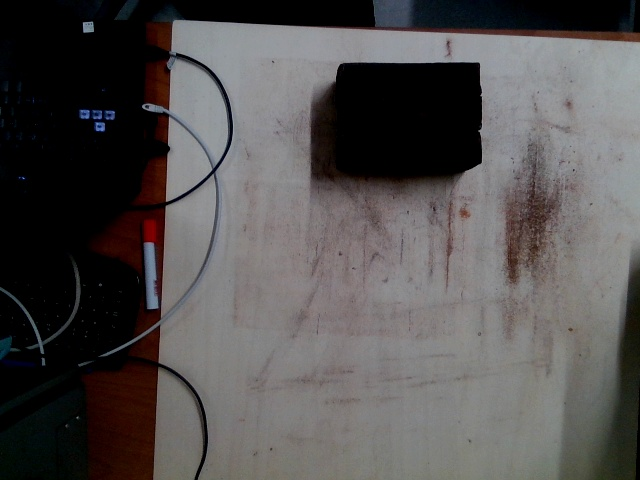brick-side: (342, 62, 477, 95), (340, 131, 475, 164), (341, 97, 477, 129)
